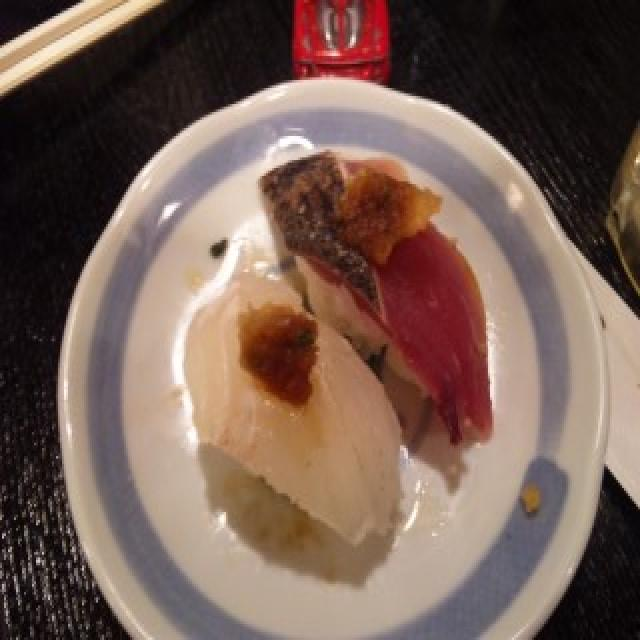寿司卷物: (68, 78, 572, 630)
